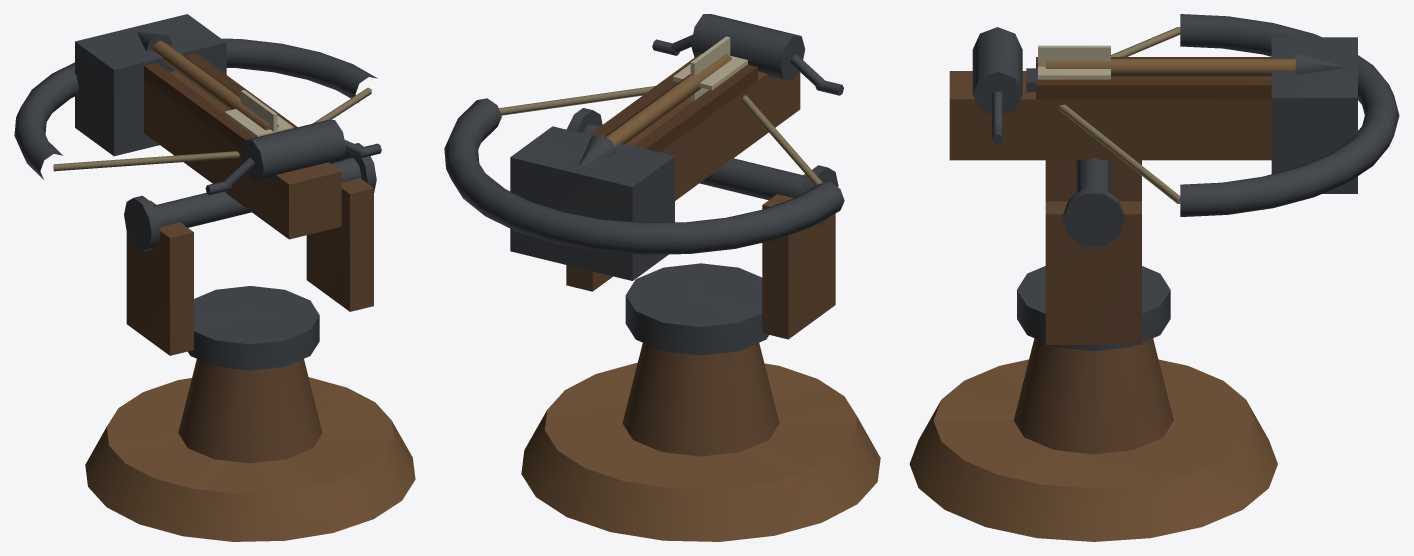
File: sky-ballista.glb
3 views of the same model, side by side, from view 1: azimuth 30°, elevation 25°; view 2: azimuth 150°, elevation 25°; view 3: azimuth 270°, elevation 25° (orthographic). The views are drawn at different scales.
Visible parts, largest first — view 1: sky-ballista-assembly, sky-ballista-base; view 2: sky-ballista-assembly, sky-ballista-base; view 3: sky-ballista-assembly, sky-ballista-base.
Part boxes in pixels (x1,y1,x2,y2): sky-ballista-assembly: [14, 14, 381, 355]; sky-ballista-base: [85, 286, 415, 541]; sky-ballista-assembly: [444, 14, 844, 339]; sky-ballista-base: [521, 263, 880, 541]; sky-ballista-assembly: [949, 14, 1399, 344]; sky-ballista-base: [909, 266, 1277, 541].
Size of the model in its own units: 0.2736 by 0.2874 by 0.3058.
